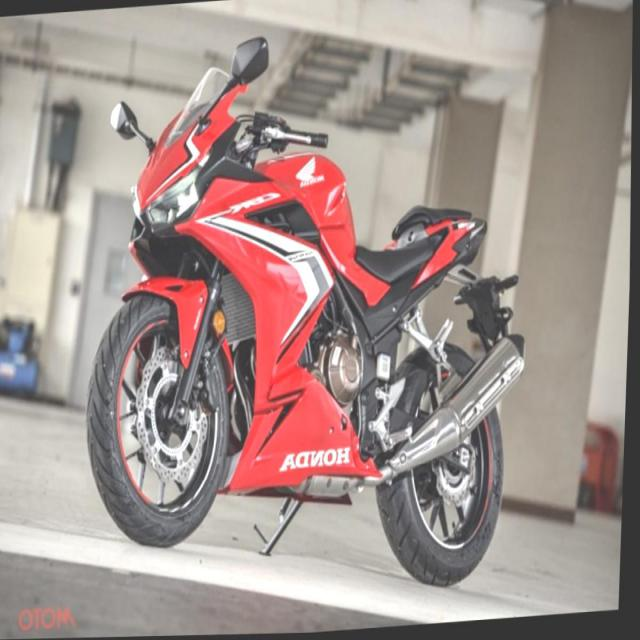CBR500R: (73, 13, 546, 614)
